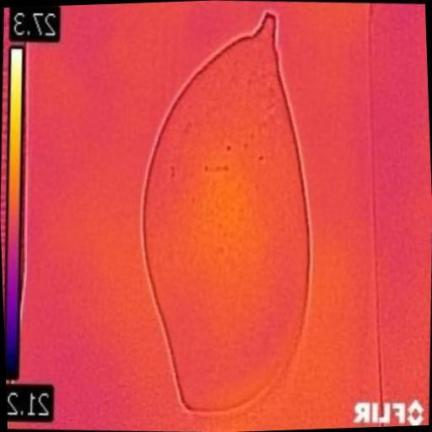mango: (144, 12, 308, 412)
